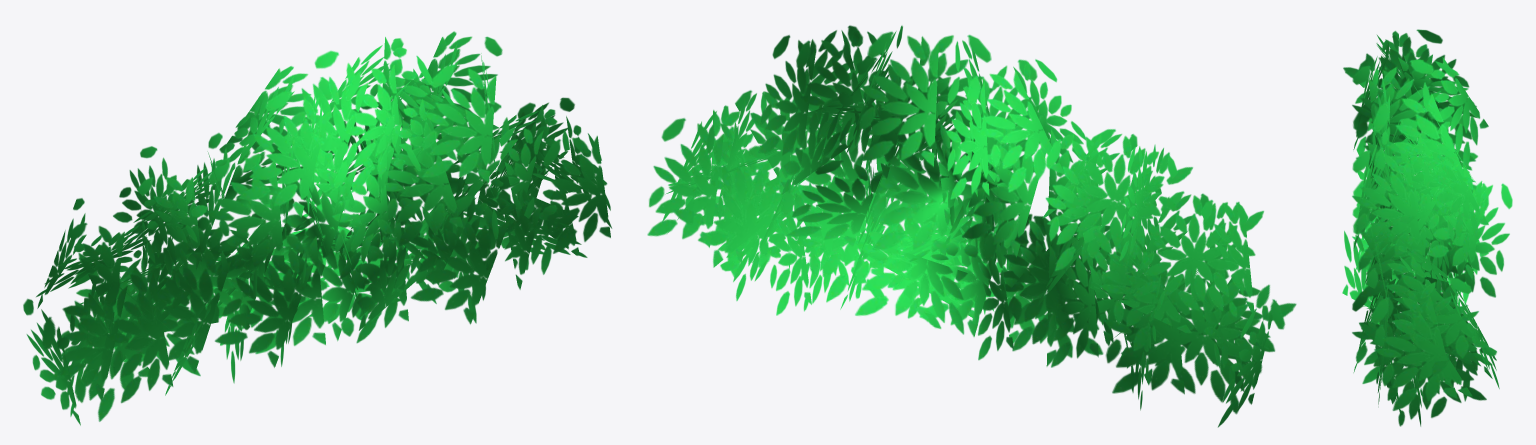
The model's file is big-bush.lod1.glb.
3 views of the same model, side by side, from view 1: azimuth 30°, elevation 25°; view 2: azimuth 150°, elevation 25°; view 3: azimuth 270°, elevation 25° (orthographic). The views are drawn at different scales.
Parts seen in each view (by area): view 1: Object_8; view 2: Object_8; view 3: Object_8.
Part boxes in pixels (x1,y1,x2,y2): Object_8: [23, 31, 611, 425]; Object_8: [647, 25, 1296, 427]; Object_8: [1342, 29, 1512, 426].
Bounding box in the file's own units: 4.38 × 2.2 × 1.23.
1 material, 1 textured.
